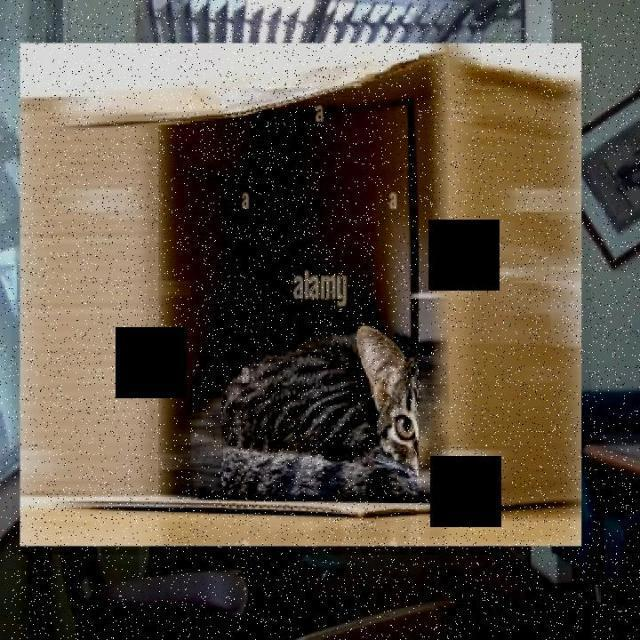box: (11, 37, 592, 554)
